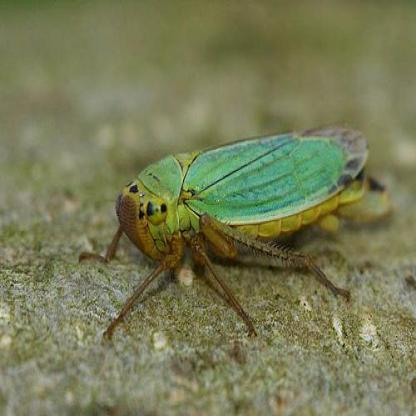Green-Leafhopper: (51, 133, 416, 355)
